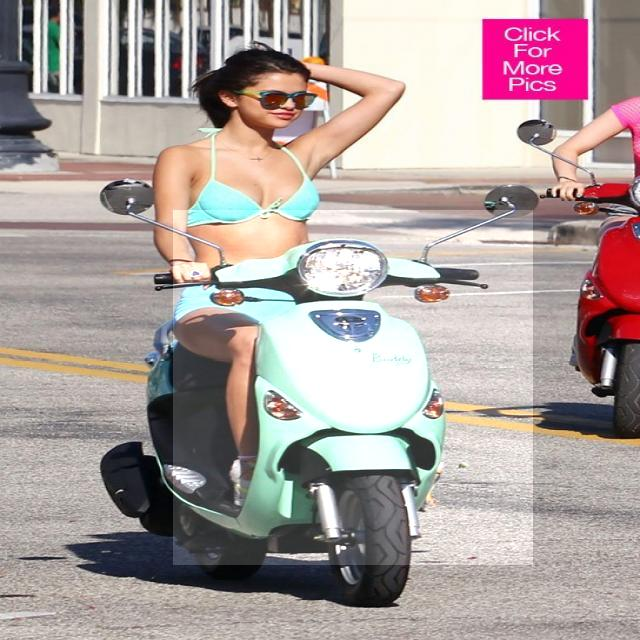Bike: (173, 210, 533, 565)
